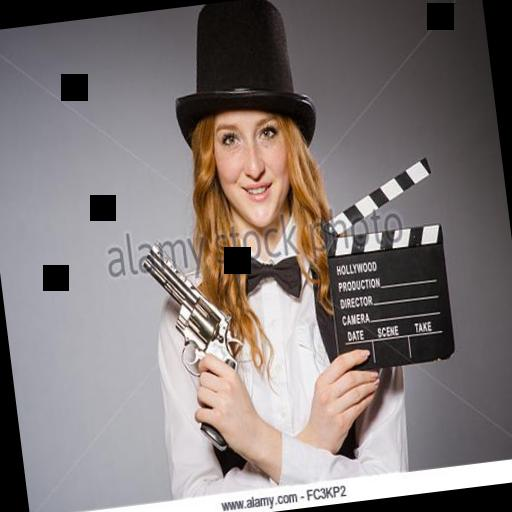Handgun: (134, 232, 252, 460)
